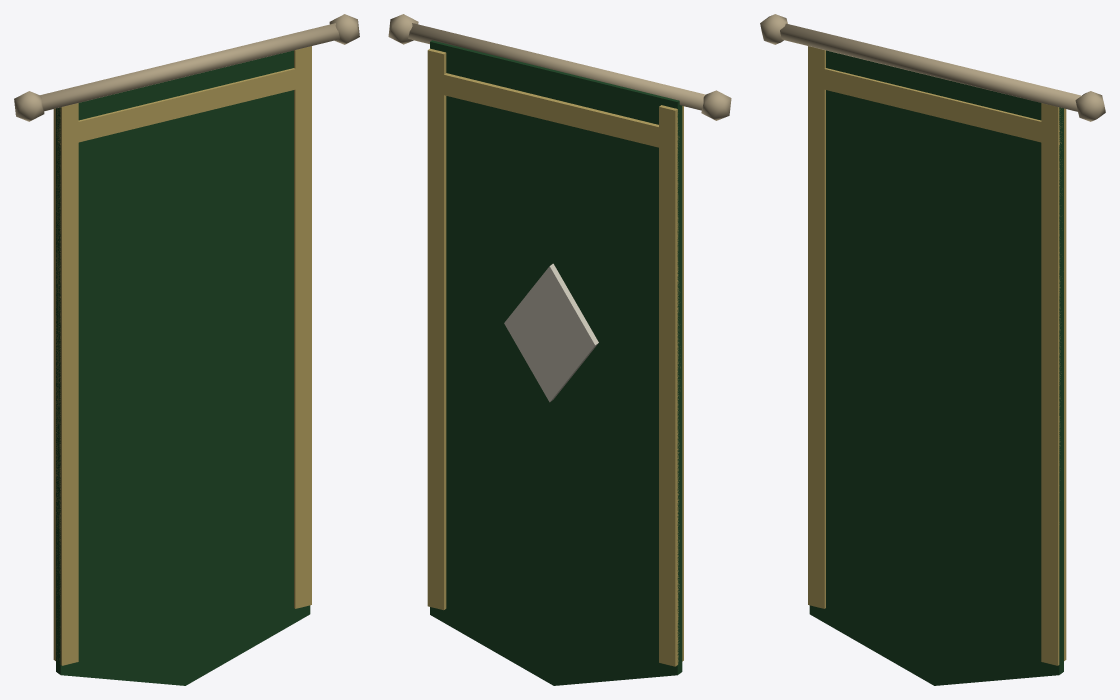
Rendered from flying_snake_banner_v0.glb.
The picture shows the model from 3 angles, left to right: view 1: azimuth 30°, elevation 25°; view 2: azimuth 150°, elevation 25°; view 3: azimuth 330°, elevation 25°; orthographic projection.
Parts seen in each view (by area): view 1: flying_snake_banner_v0; view 2: flying_snake_banner_v0; view 3: flying_snake_banner_v0.
Part boxes in pixels (box(x1,y1,x2,y2)): flying_snake_banner_v0: box(14, 14, 359, 685); flying_snake_banner_v0: box(388, 14, 731, 685); flying_snake_banner_v0: box(760, 14, 1105, 685).
Size of the model in its own units: 1.04 by 1.84 by 0.0933.
